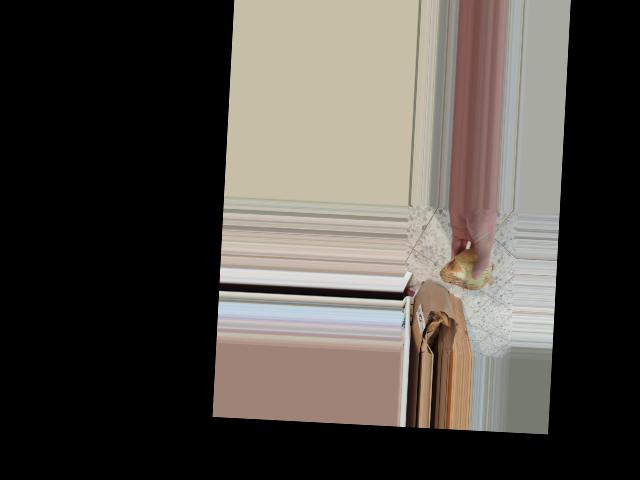onion: (441, 243, 496, 296)
